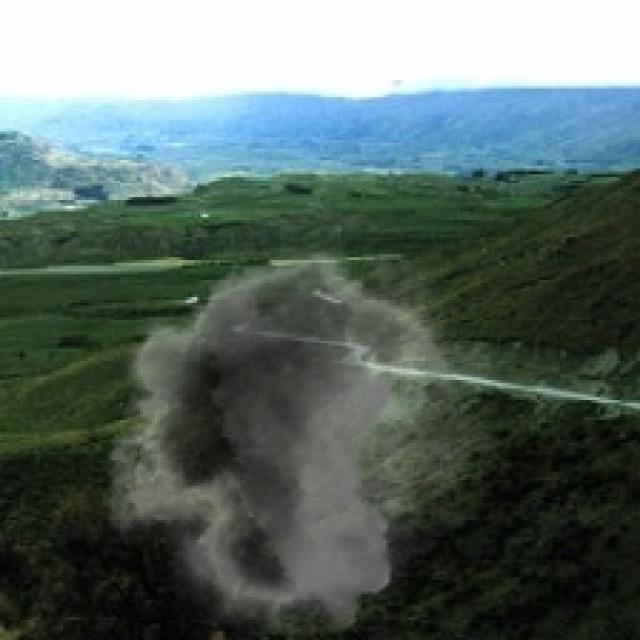Smoke: (86, 226, 503, 634)
